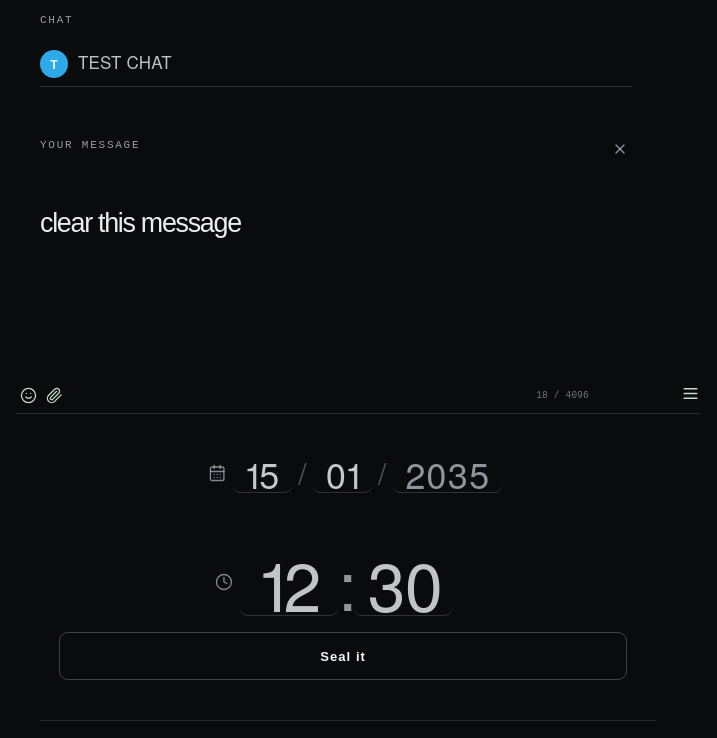
Test: SchedulePage production composer › clears the planner message from the label control
Click the button with class "message-clear-button".
click(620, 149)  # box [608,137,632,161]
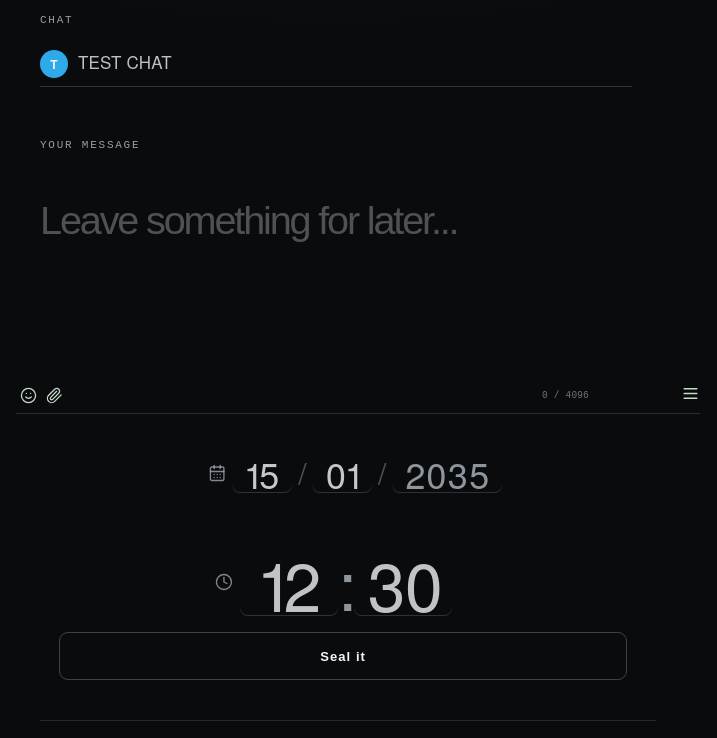
Expected: the text box named "Your message" is empty, [40,189,680,379]
Expected: the button with class "message-clear-button" is gone
